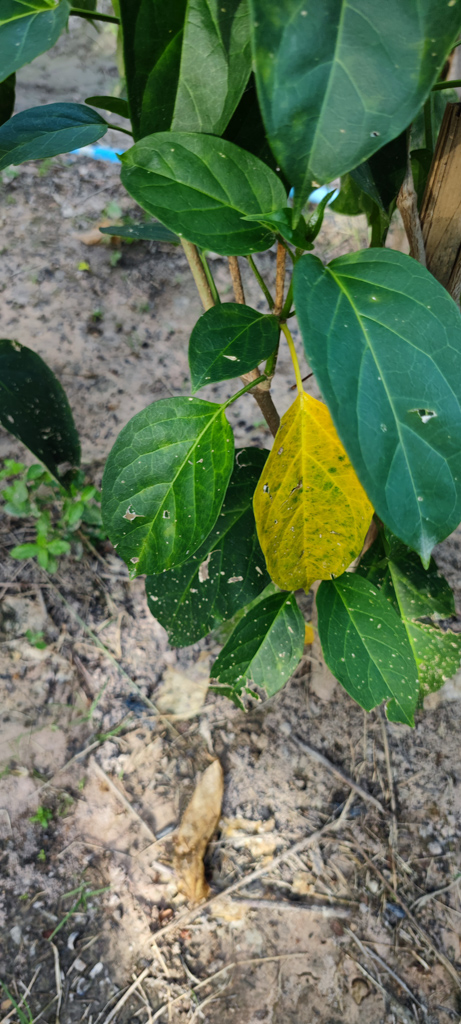Pepper yellow leaf: (250, 391, 375, 604)
